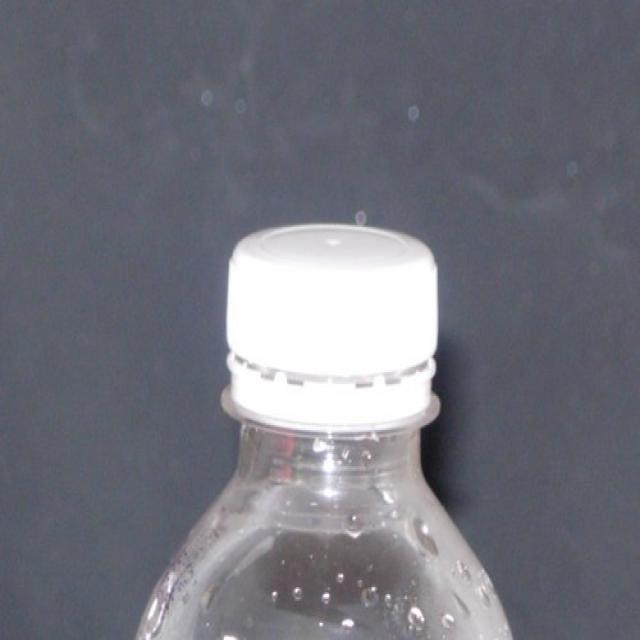plastic_bottle: (136, 224, 514, 640)
